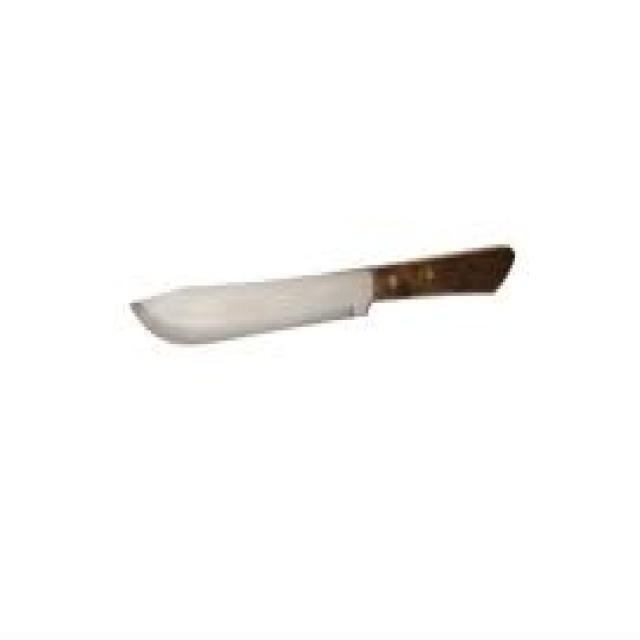Knife: (127, 241, 515, 344)
